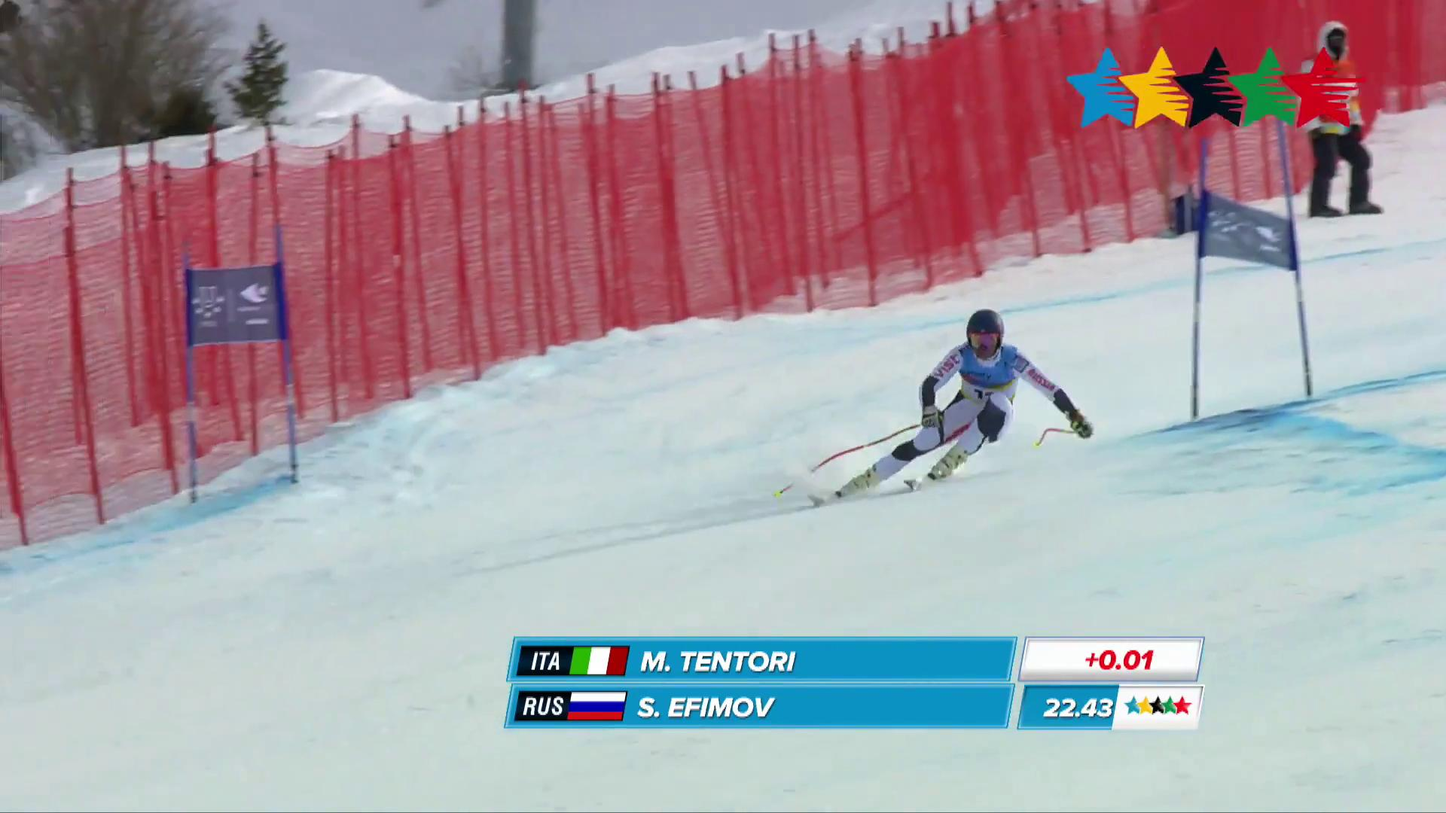gate: (1191, 141, 1313, 419), (184, 226, 298, 502), (1277, 122, 1291, 191)
